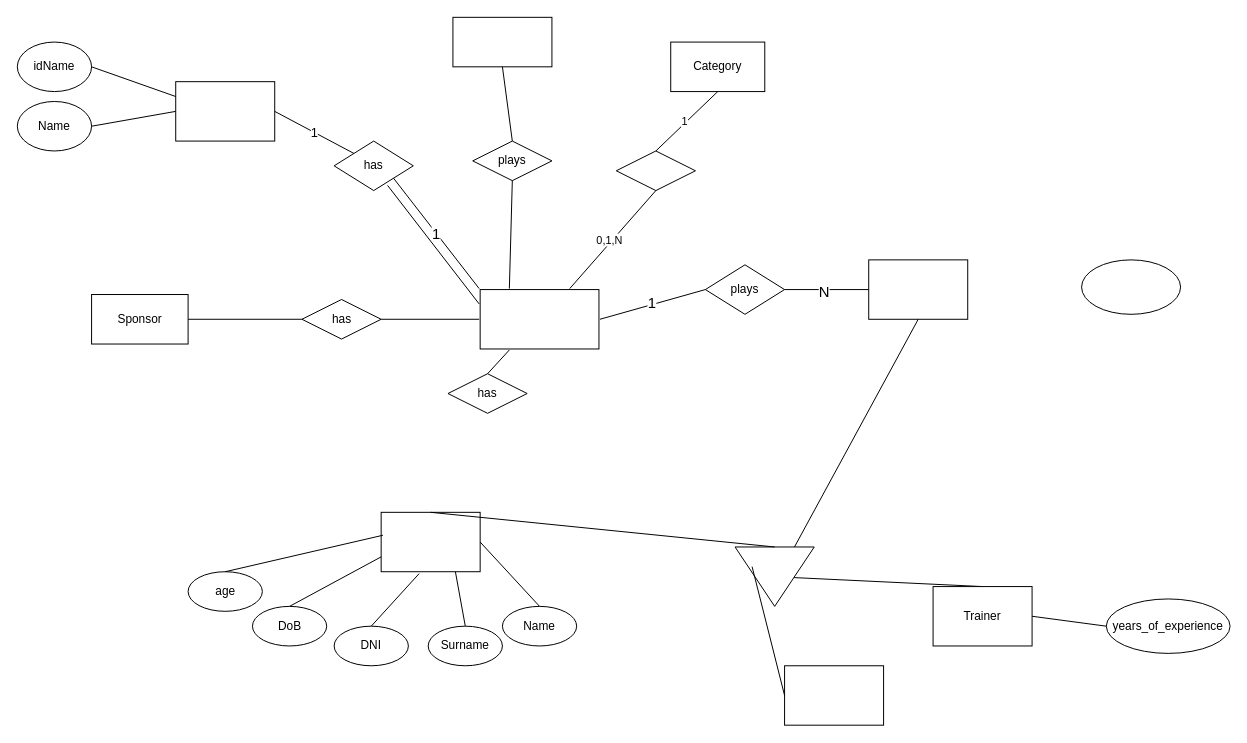
The diagram is 1247 pixels wide and 743 high, and some of its shapes have lost their labels. The shapes that lost their labels are listed below. From the top down, each one's box as (x1, y1, x2, y2) in pixels, then its label:
(452, 16, 552, 67): League
(175, 81, 275, 141): Mascot
(615, 150, 695, 191): belongs to
(868, 259, 968, 319): Player
(1081, 259, 1181, 314): es_capitan
(479, 289, 599, 349): Team
(380, 511, 480, 572): Person
(784, 665, 884, 725): Worker
